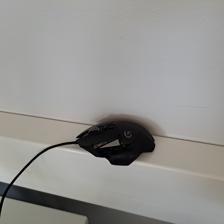mouse: (75, 118, 156, 166)
